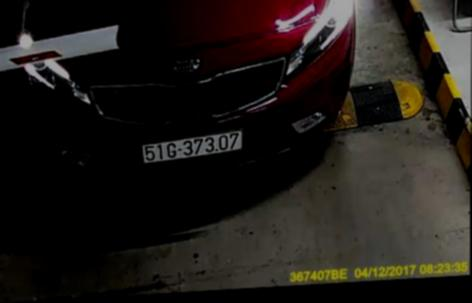License_Plate: (139, 130, 245, 167)
